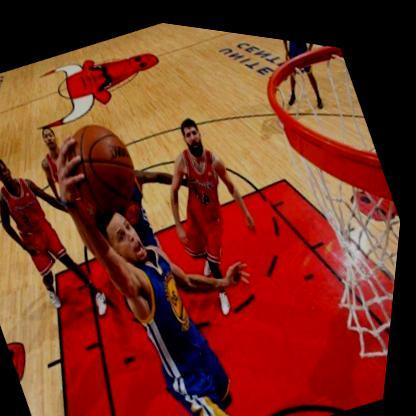basketball: (54, 107, 156, 223)
rim: (232, 29, 416, 388)
